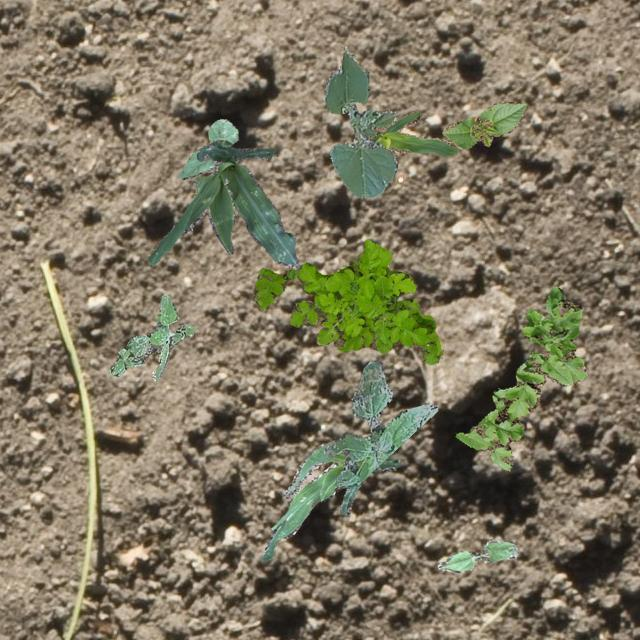crop: (148, 140, 298, 268), (260, 440, 400, 560), (322, 46, 396, 196), (362, 110, 457, 154), (442, 100, 526, 148), (178, 118, 236, 178), (436, 538, 516, 572)
weed: (454, 286, 586, 470), (252, 238, 442, 364), (322, 360, 437, 488), (109, 292, 194, 380)
